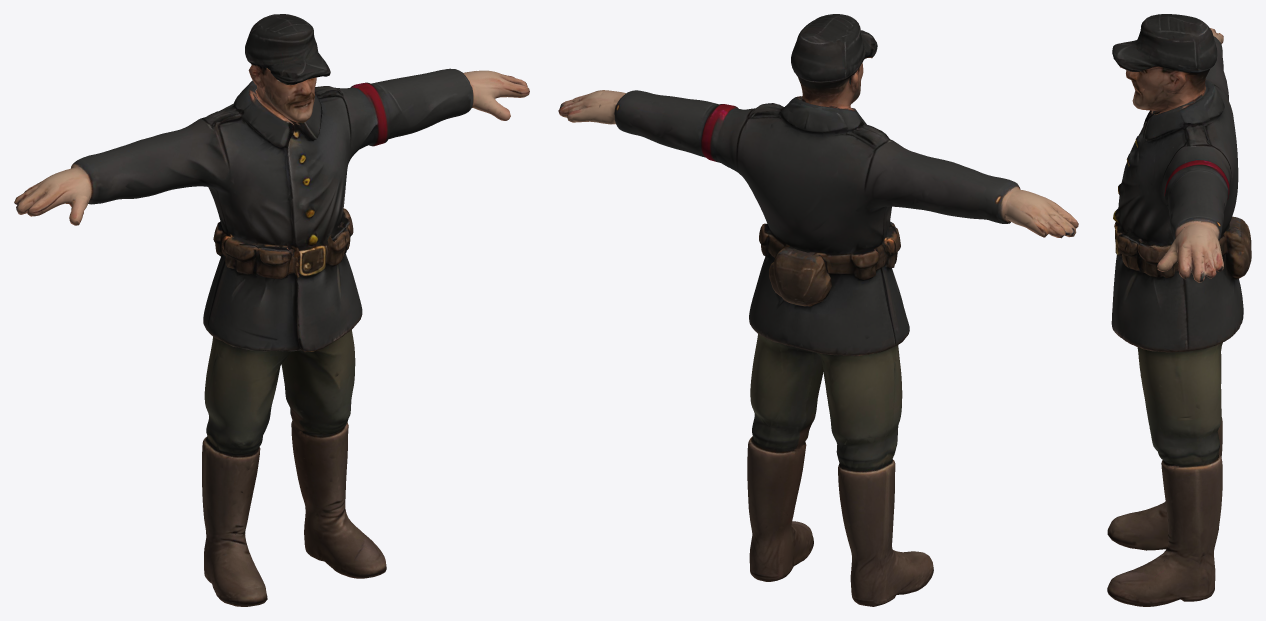
Rendered from soldado_1.glb.
The picture shows the model from 3 angles, left to right: view 1: azimuth 30°, elevation 25°; view 2: azimuth 150°, elevation 25°; view 3: azimuth 270°, elevation 25°; orthographic projection.
Parts seen in each view (by area): view 1: soldado_1; view 2: soldado_1; view 3: soldado_1.
Boxes of the visible parts, <box> form: soldado_1: <box>14,14,529,606</box>; soldado_1: <box>558,14,1078,606</box>; soldado_1: <box>1107,14,1251,606</box>.
Size of the model in its own units: 1.66 by 1.72 by 0.4064.
Materials: 1 (1 with a texture image).
